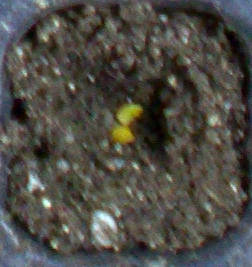pepper seed: (38, 49, 177, 199), (42, 37, 186, 165)
